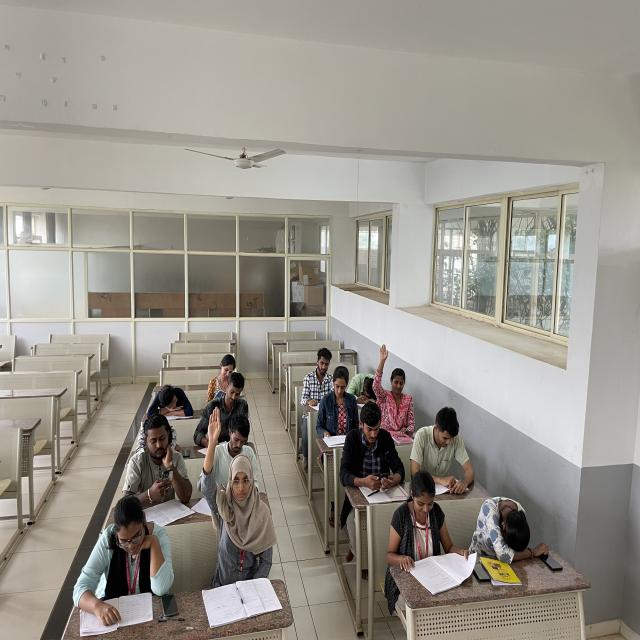Hand Rising: (199, 400, 278, 586), (371, 343, 418, 431)
Reading: (75, 495, 169, 622), (384, 473, 469, 582), (408, 410, 475, 488), (316, 364, 365, 444), (204, 354, 246, 402)
Sleeping: (468, 489, 538, 558), (144, 383, 195, 422), (350, 368, 386, 407)
Using Phone: (118, 409, 196, 508), (336, 397, 402, 490)
Writing: (296, 344, 336, 409)
